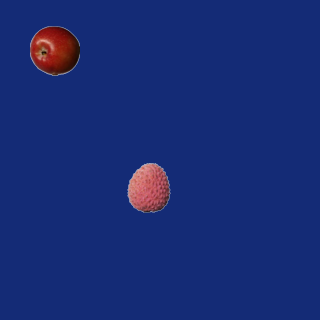Apple Braeburn: (29, 25, 79, 75)
Lychee: (123, 162, 173, 212)
